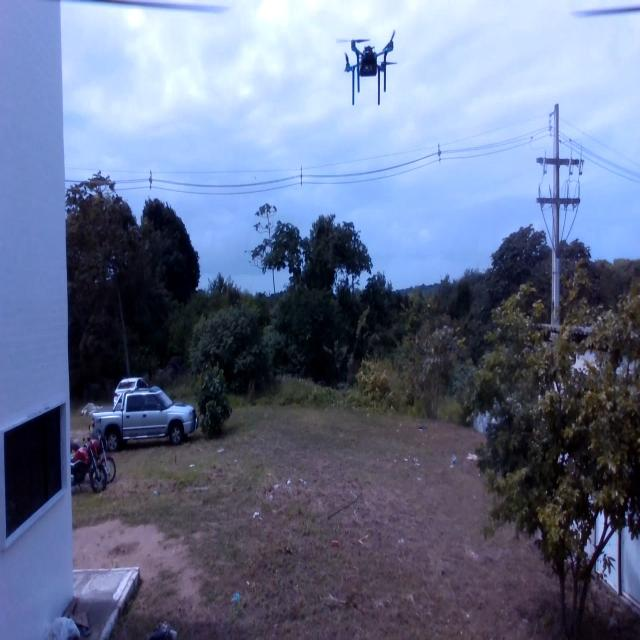-uav-: (322, 16, 408, 123)
